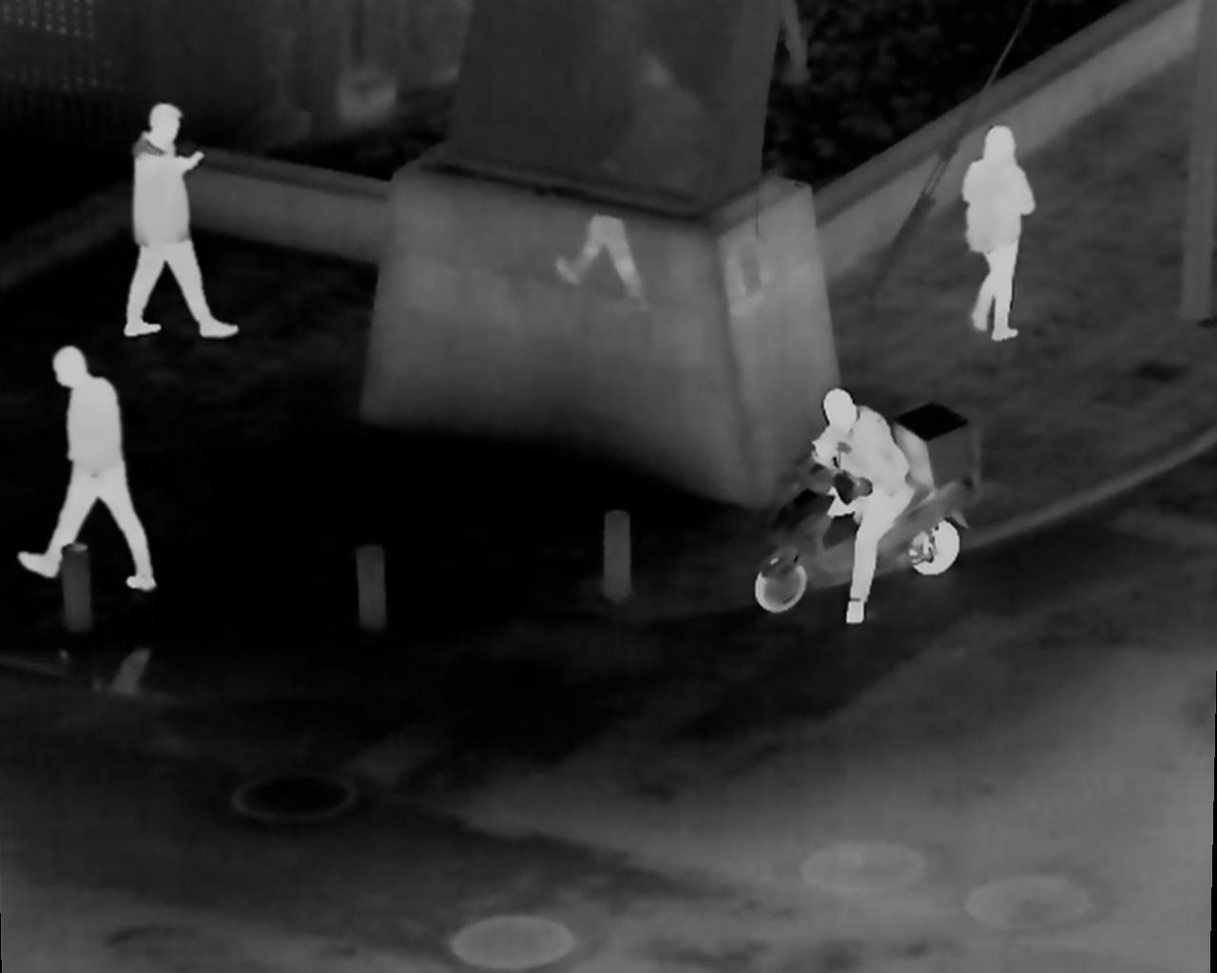person: (27, 339, 154, 590), (800, 383, 920, 615), (127, 107, 242, 343), (957, 125, 1044, 333)
